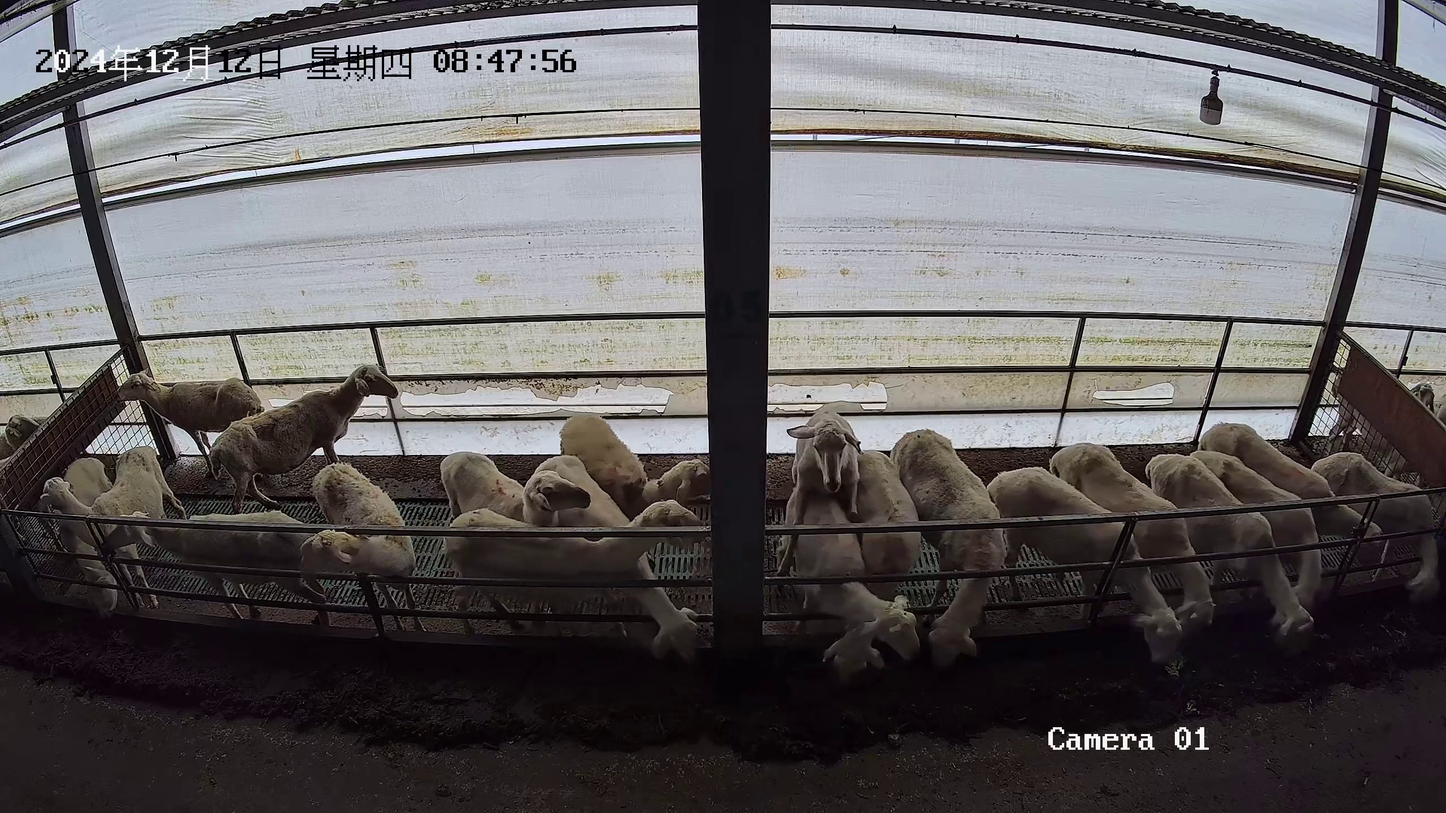Nmounting: (774, 402, 881, 679)
